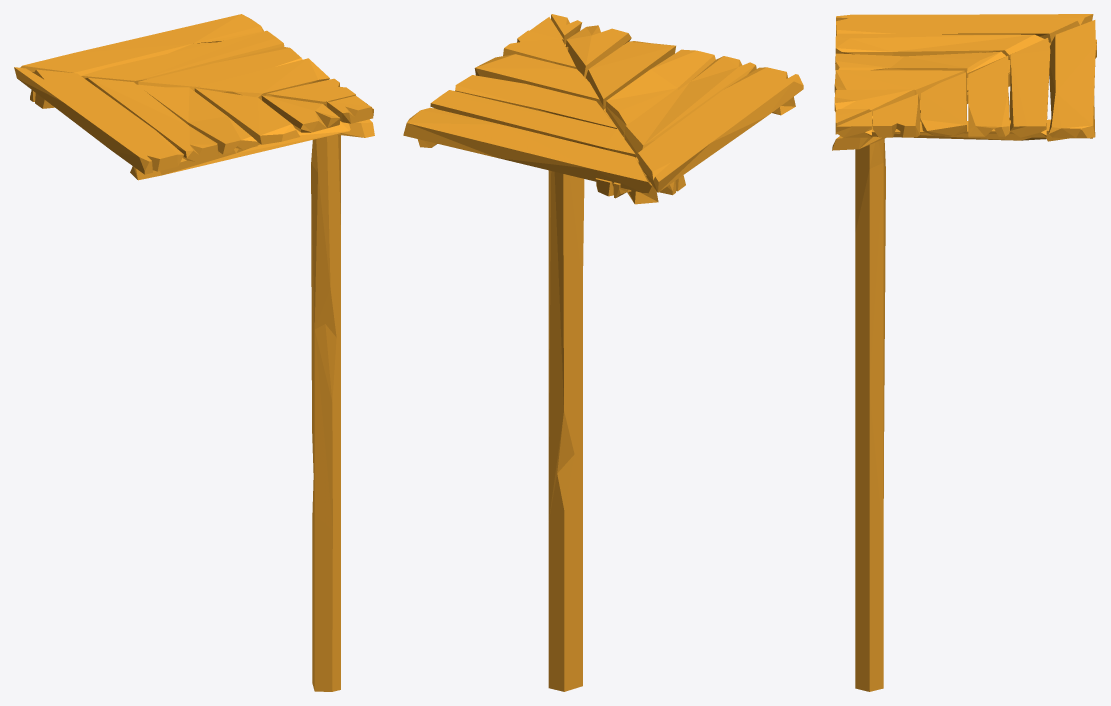
File: SM_Palisade_Gallery_Corner_2x2.fbx
3 renders of one model, left to right at view 1: azimuth 30°, elevation 25°; view 2: azimuth 150°, elevation 25°; view 3: azimuth 270°, elevation 25°, orthographic. The views are drawn at different scales.
Parts seen in each view (by area): view 1: palisade-gallery-corner-2x2; view 2: palisade-gallery-corner-2x2; view 3: palisade-gallery-corner-2x2.
Part boxes in pixels (<box>): palisade-gallery-corner-2x2: <box>14,14,374,691</box>; palisade-gallery-corner-2x2: <box>403,14,803,691</box>; palisade-gallery-corner-2x2: <box>832,14,1096,691</box>.
Size of the model in its own units: 2.01 by 4.84 by 2.02.
